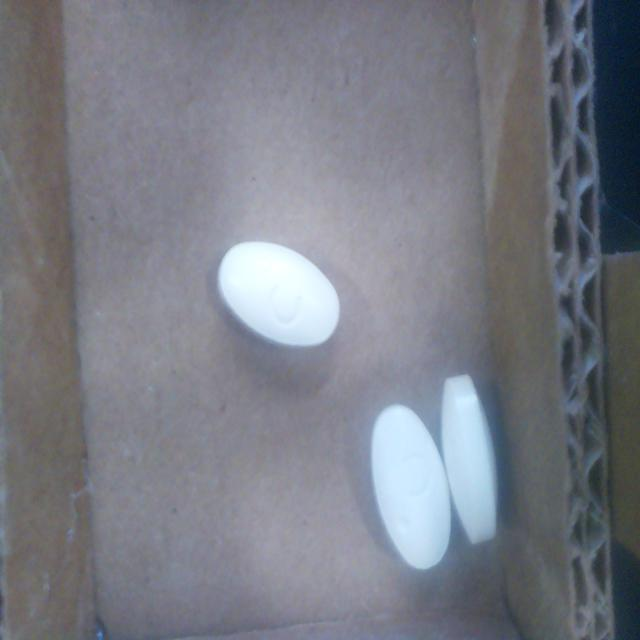pill: (371, 405, 451, 570), (217, 241, 340, 347), (441, 374, 497, 544)
